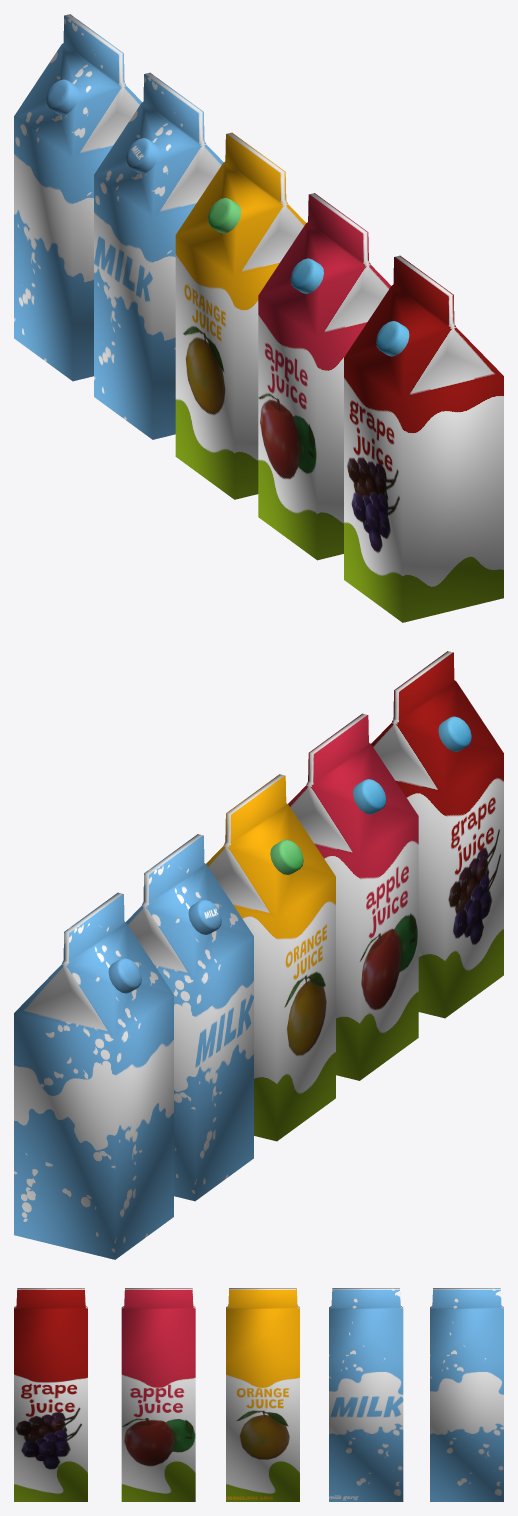
3 views of the same model, one above another, from view 1: azimuth 30°, elevation 25°; view 2: azimuth 150°, elevation 25°; view 3: azimuth 270°, elevation 25° (orthographic). The views are drawn at different scales.
Visible parts, largest first — view 1: grapejuicegfx_9, applejuicegfx_7, orangejuicegfx_5, milwithtext_3, milk_1, bouchon.004_4, bouchon.008_8, milk.001_0, milk.002_2, bouchon.006_6; view 2: milk_1, grapejuicegfx_9, applejuicegfx_7, orangejuicegfx_5, milwithtext_3, milk.001_0, bouchon.004_4, bouchon.008_8, milk.002_2, bouchon.006_6; view 3: applejuicegfx_7, milwithtext_3, orangejuicegfx_5, milk_1, grapejuicegfx_9.
Part boxes in pixels (<box>): grapejuicegfx_9: <box>344,255,503,622</box>; applejuicegfx_7: <box>258,193,390,560</box>; orangejuicegfx_5: <box>175,132,305,499</box>; milwithtext_3: <box>94,72,223,439</box>; milk_1: <box>14,14,141,381</box>; bouchon.004_4: <box>208,198,241,233</box>; bouchon.008_8: <box>376,321,409,356</box>; milk.001_0: <box>46,79,79,114</box>; milk.002_2: <box>126,138,159,173</box>; bouchon.006_6: <box>290,258,323,293</box>; milk_1: <box>14,892,173,1259</box>; grapejuicegfx_9: <box>371,651,503,1018</box>; applejuicegfx_7: <box>288,713,418,1080</box>; orangejuicegfx_5: <box>206,774,335,1141</box>; milwithtext_3: <box>126,834,253,1201</box>; milk.001_0: <box>108,958,141,993</box>; bouchon.004_4: <box>270,839,303,874</box>; bouchon.008_8: <box>438,716,471,751</box>; milk.002_2: <box>188,899,221,934</box>; bouchon.006_6: <box>353,779,386,814</box>; applejuicegfx_7: <box>121,1288,195,1501</box>; milwithtext_3: <box>329,1288,403,1501</box>; orangejuicegfx_5: <box>226,1288,299,1501</box>; milk_1: <box>430,1288,503,1501</box>; grapejuicegfx_9: <box>14,1288,87,1501</box>.
Size of the model in its own units: 0.3434 by 1.01 by 2.28.
5 materials, 5 textured.
